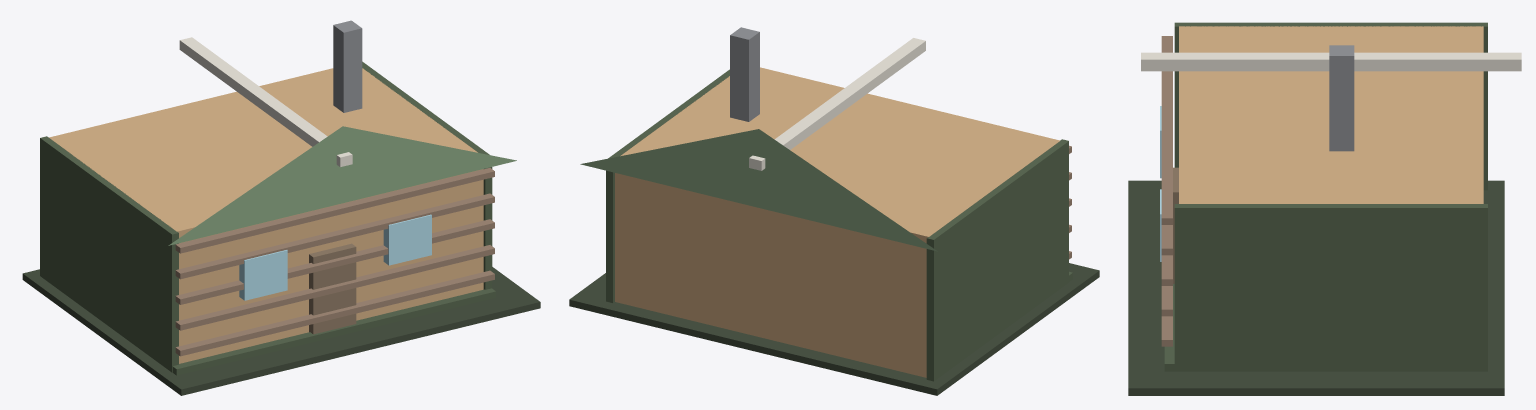
The model's file is building-cabin.glb.
The picture shows the model from 3 angles, left to right: view 1: azimuth 30°, elevation 25°; view 2: azimuth 150°, elevation 25°; view 3: azimuth 270°, elevation 25°; orthographic projection. The views are drawn at different scales.
Parts seen in each view (by area): view 1: cabin; view 2: cabin; view 3: cabin.
Boxes of the visible parts, x1,y1,x2,y2 form: cabin: (22,20,540,395); cabin: (569,27,1099,395); cabin: (1128,22,1521,395).
Size of the model in its own units: 2.37 by 1.5 by 1.87.
